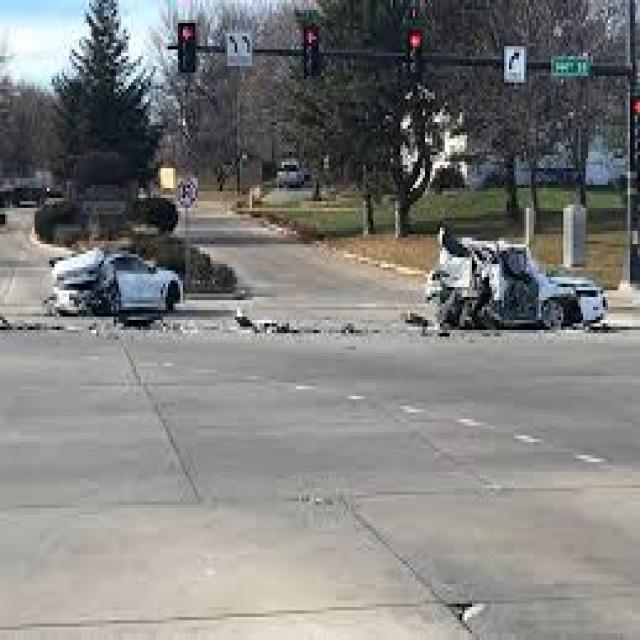accident: (22, 209, 614, 344), (422, 230, 623, 348), (38, 230, 208, 332)
